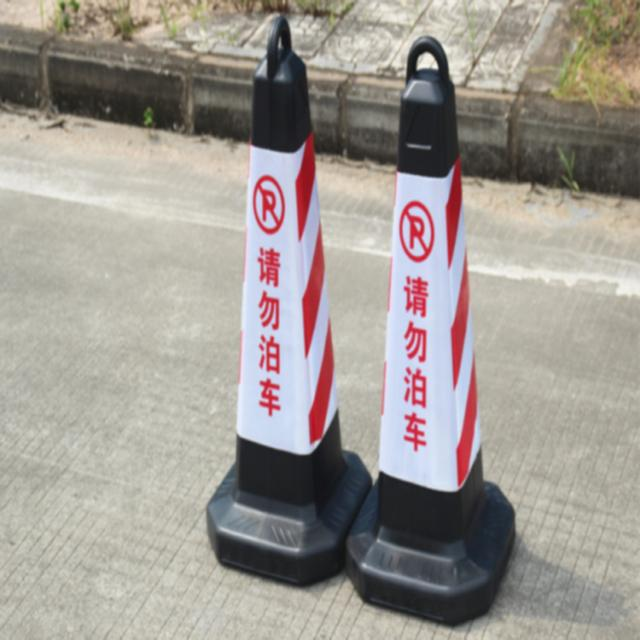reflective_cone: (342, 30, 515, 620), (202, 13, 370, 579)
